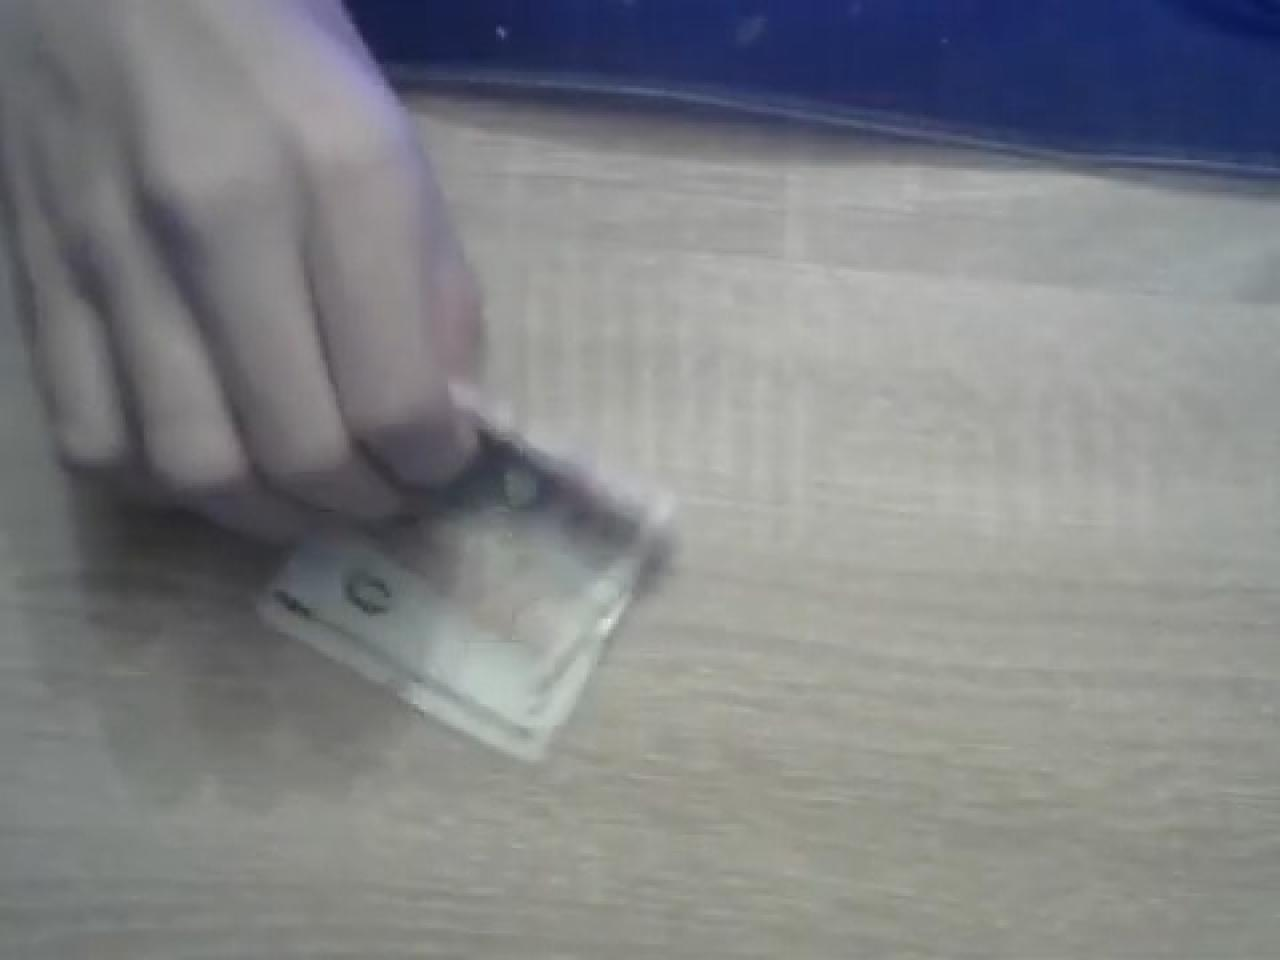10leva: (251, 410, 677, 765)
